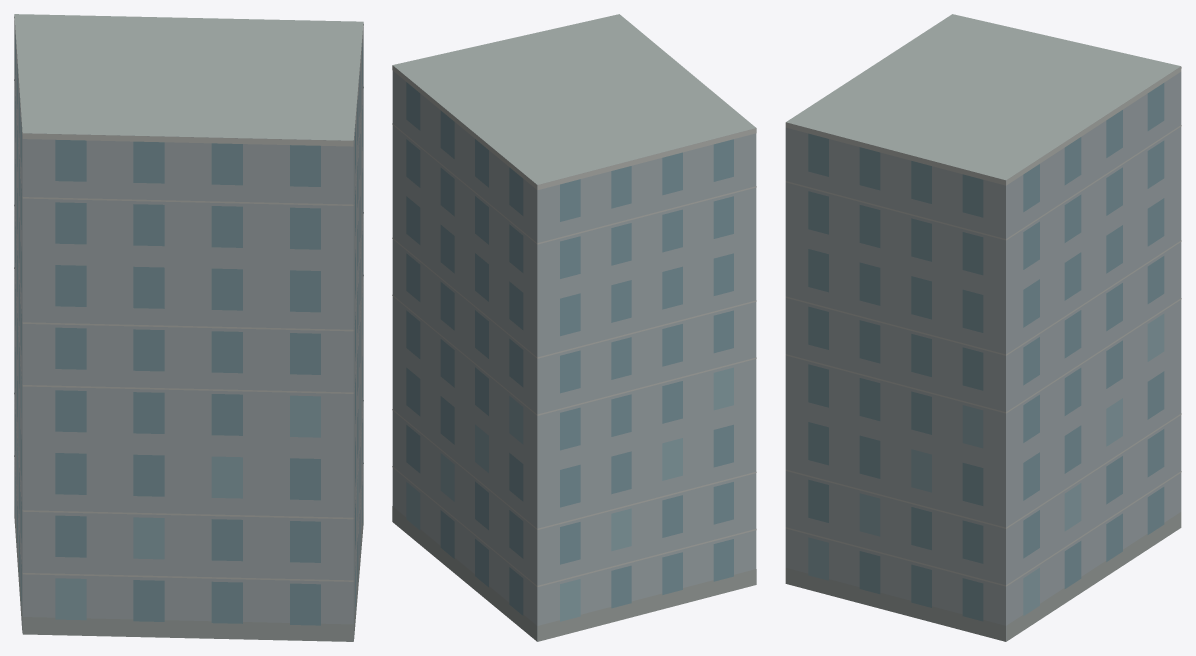
The model's file is survey-upis-32723224.glb.
The picture shows the model from 3 angles, left to right: view 1: azimuth 30°, elevation 25°; view 2: azimuth 150°, elevation 25°; view 3: azimuth 270°, elevation 25°; orthographic projection. The views are drawn at different scales.
Visible parts, largest first — view 1: survey-upis-32723224.tmp; view 2: survey-upis-32723224.tmp; view 3: survey-upis-32723224.tmp.
Part boxes in pixels (left/top/right/bottom): survey-upis-32723224.tmp: left=14, top=14, right=363, bottom=641; survey-upis-32723224.tmp: left=392, top=14, right=756, bottom=641; survey-upis-32723224.tmp: left=785, top=14, right=1181, bottom=641.
Bounding box in the file's own units: 16.29 × 21.05 × 16.37.
